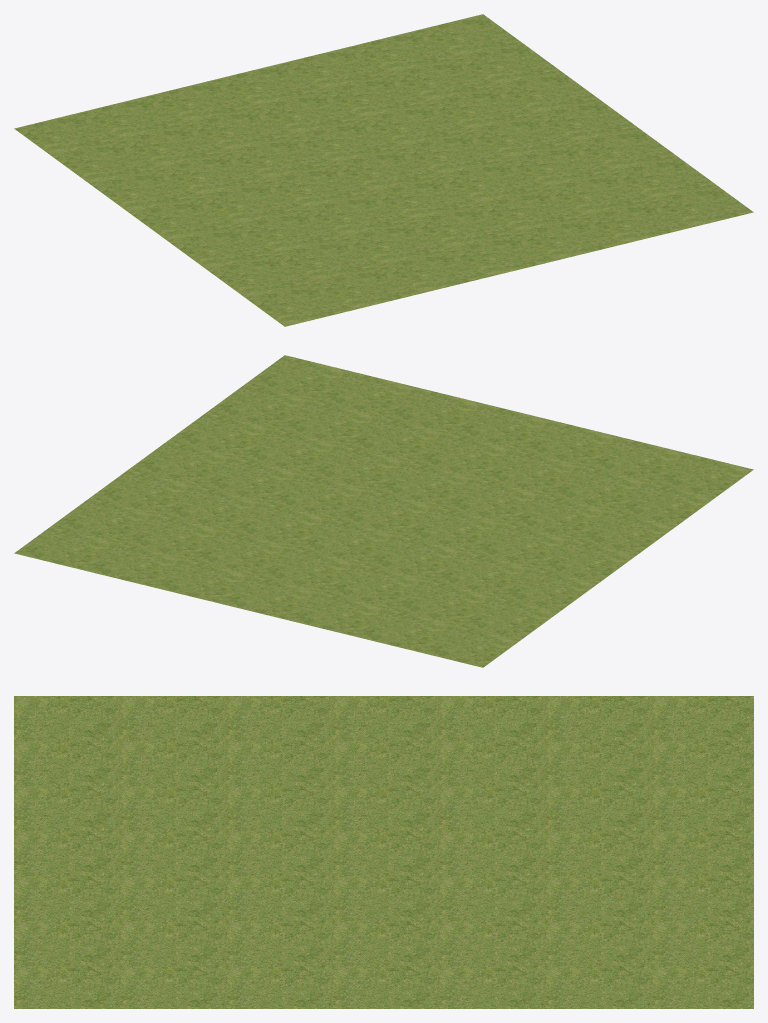
Rendered from ground.obj.
3 renders of one model, top to bottom at view 1: azimuth 30°, elevation 25°; view 2: azimuth 150°, elevation 25°; view 3: azimuth 270°, elevation 25°, orthographic. The views are drawn at different scales.
Parts seen in each view (by area): view 1: ground_Plane; view 2: ground_Plane; view 3: ground_Plane.
Part boxes in pixels (left/top/right/bottom): ground_Plane: left=14, top=14, right=753, bottom=326; ground_Plane: left=14, top=355, right=753, bottom=667; ground_Plane: left=14, top=696, right=753, bottom=1008.
Size of the model in its own units: 17.75 by 0 by 17.75.
